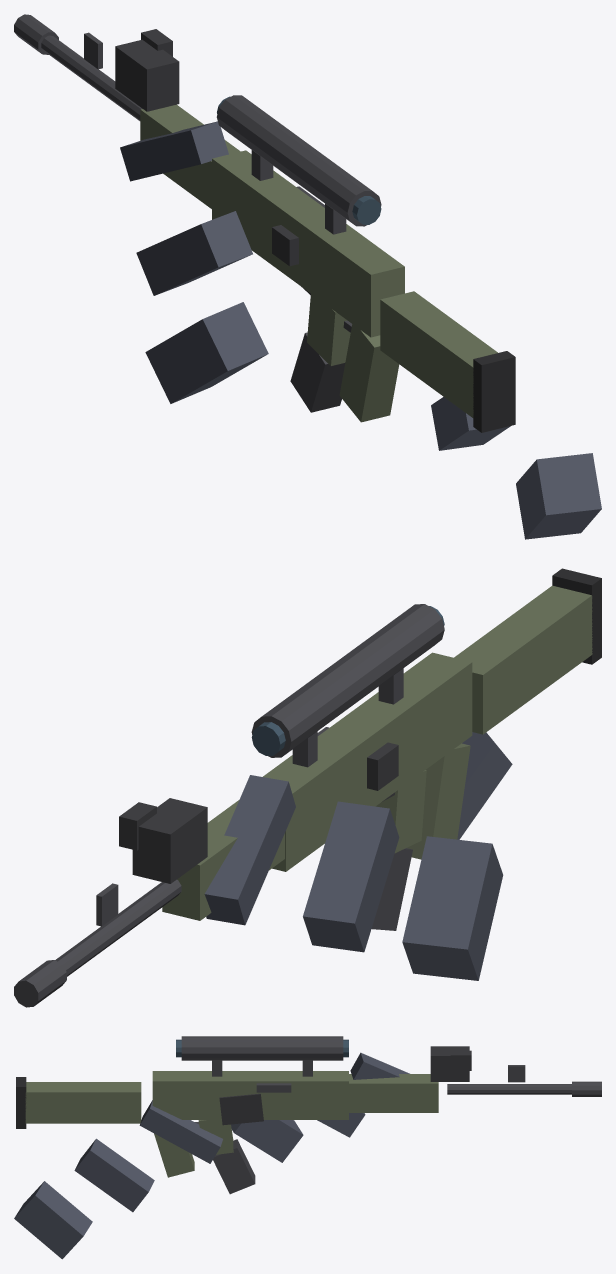
Rendered from AWP.glb.
3 views of the same model, one above another, from view 1: azimuth 30°, elevation 25°; view 2: azimuth 150°, elevation 25°; view 3: azimuth 270°, elevation 25° (orthographic). The views are drawn at different scales.
Visible parts, largest first — view 1: AWP, arms; view 2: AWP, arms; view 3: AWP, arms.
Part boxes in pixels (left/top/right/bottom): AWP: left=14, top=14, right=515, bottom=432; arms: left=115, top=29, right=601, bottom=539; AWP: left=14, top=568, right=601, bottom=1007; arms: left=119, top=732, right=512, bottom=980; AWP: left=16, top=1036, right=601, bottom=1194; arms: left=14, top=1046, right=471, bottom=1259.
Size of the model in its own units: 0.3162 by 0.3553 by 1.02.
